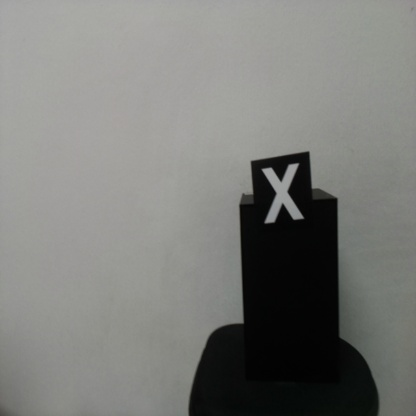id_13: (251, 158, 313, 243)
